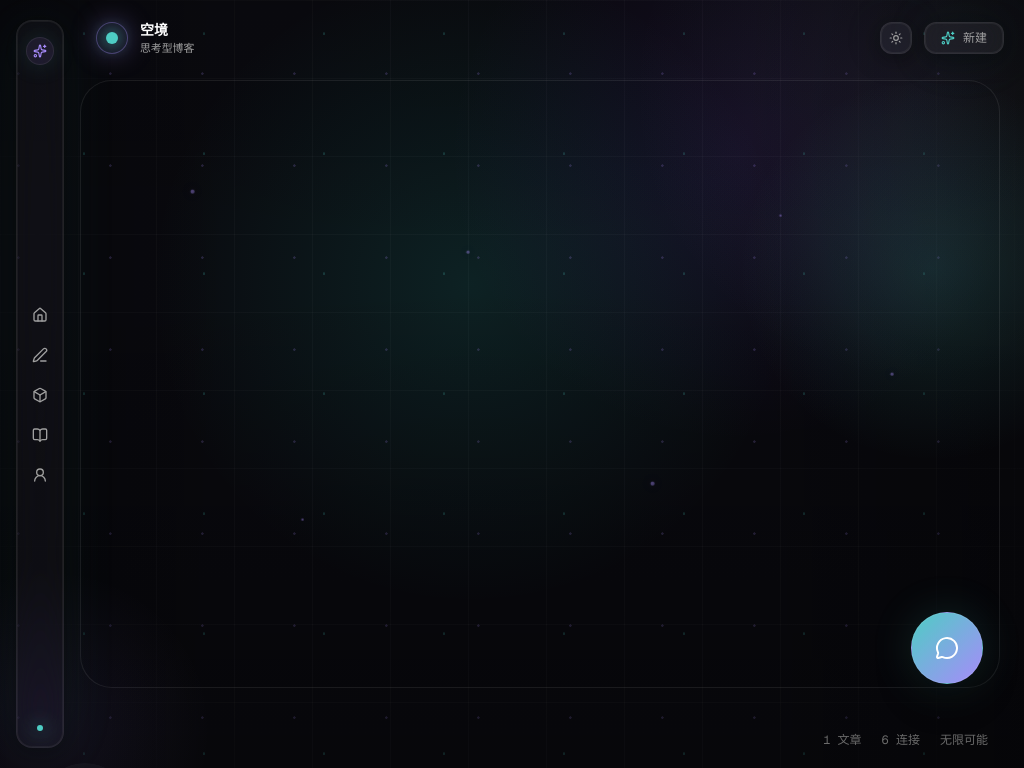
Test: HomePageView › switches between 空境明暗主题
Step 1. Click the button named "切换白天模式" → x=896, y=38, box x1=880 y1=22 x2=912 y2=54
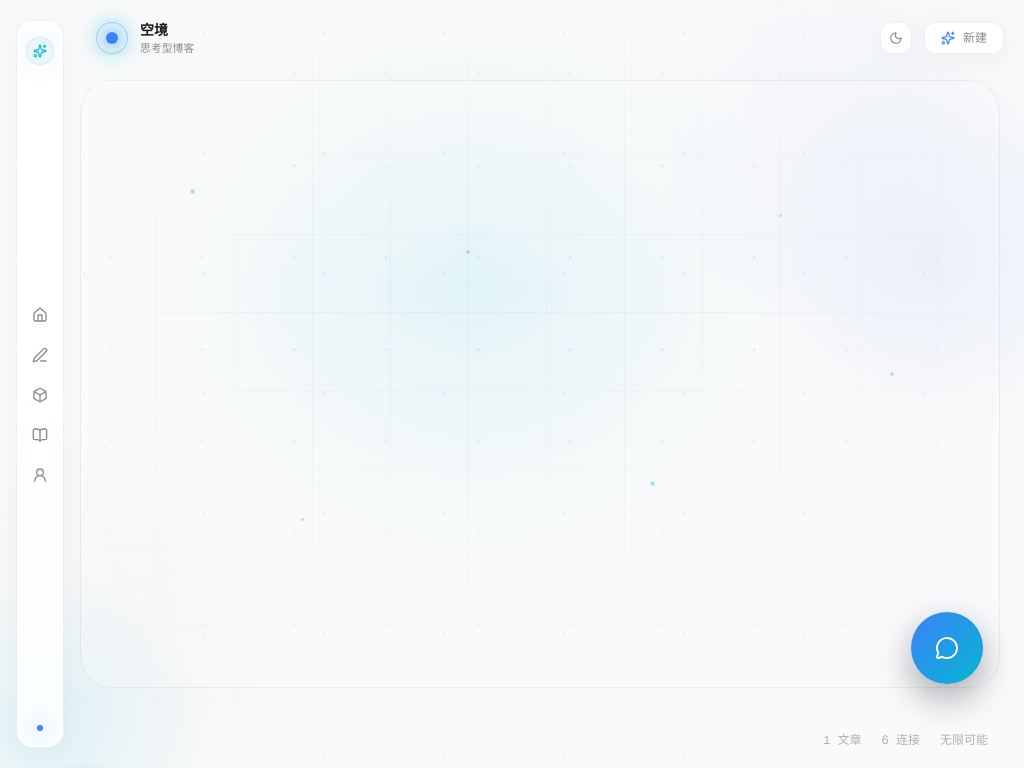
expect the button named "切换黑夜模式" is shown: met
Step 2. Click the button named "切换黑夜模式" → x=896, y=38, box x1=880 y1=22 x2=912 y2=54
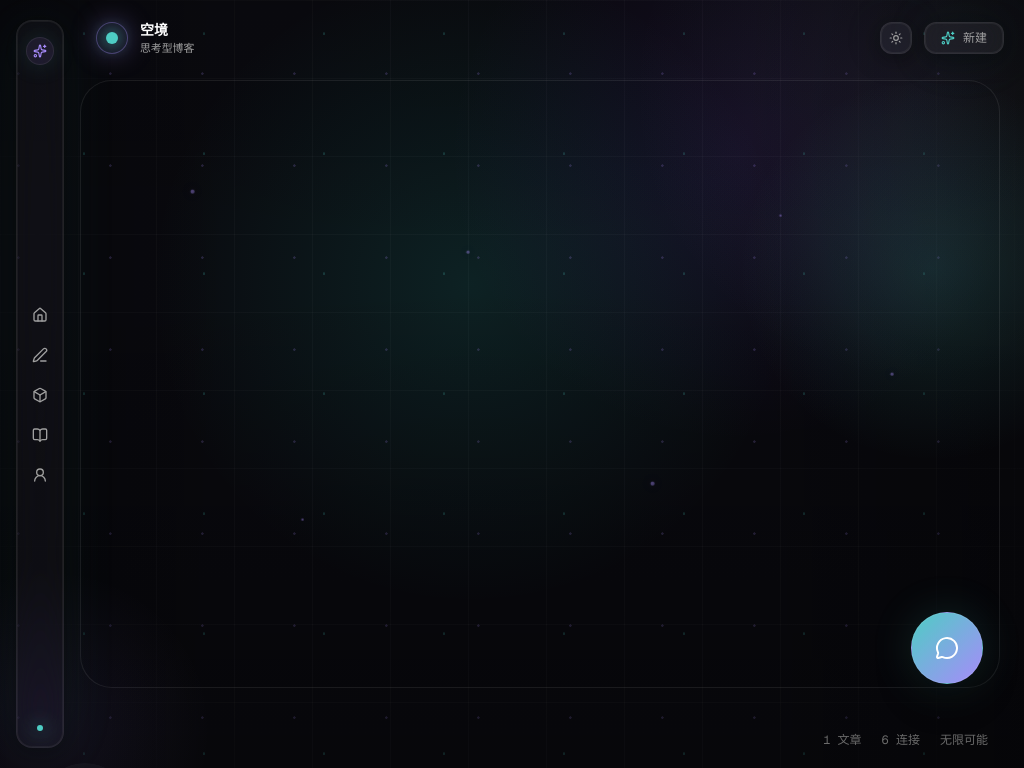
expect the element with test id "null-space-shell" has attribute data-theme="dark": met
